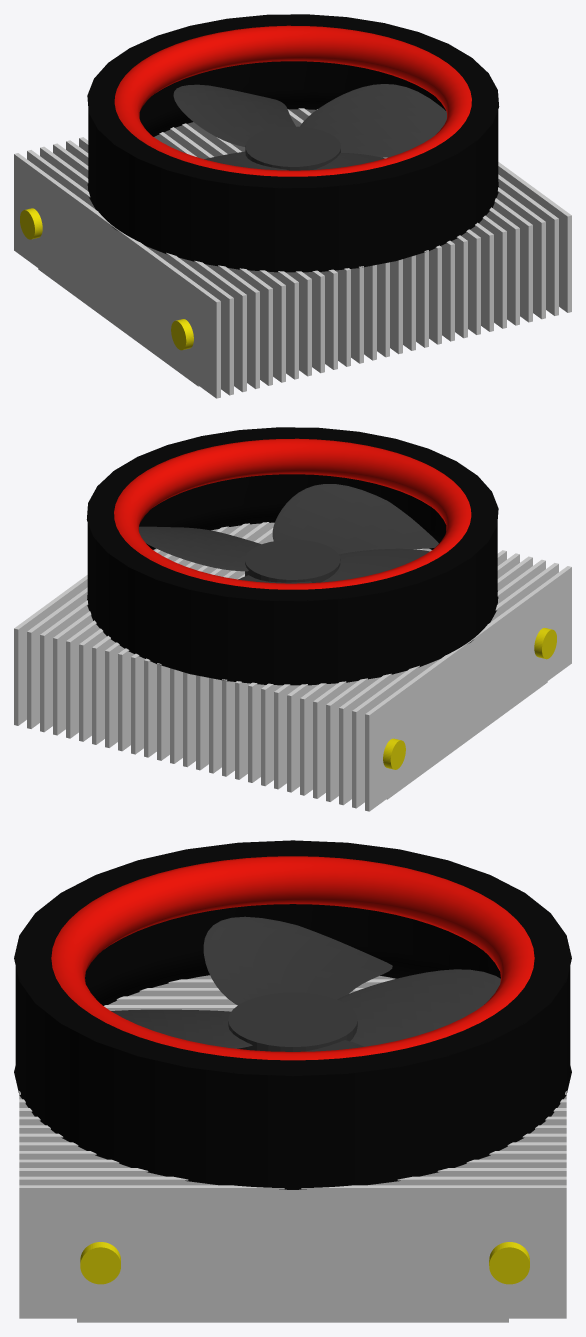
Rendered from CPUFan.fbx.
The picture shows the model from 3 angles, top to bottom: view 1: azimuth 30°, elevation 25°; view 2: azimuth 150°, elevation 25°; view 3: azimuth 270°, elevation 25°; orthographic projection. The views are drawn at different scales.
Parts seen in each view (by area): view 1: CoolerFin, FanShroud, LedLights, Plane, CopperPippes; view 2: CoolerFin, FanShroud, LedLights, Plane, CopperPippes; view 3: FanShroud, CoolerFin, LedLights, Plane, CopperPippes, CoolerBase.
Part boxes in pixels (x1=…): CoolerFin: x1=14, y1=108, x2=571, y2=398; FanShroud: x1=87, y1=14, x2=499, y2=272; LedLights: x1=114, y1=25, x2=471, y2=176; Plane: x1=173, y1=84, x2=446, y2=170; CopperPippes: x1=20, y1=208, x2=193, y2=350; CoolerFin: x1=14, y1=522, x2=571, y2=811; FanShroud: x1=86, y1=427, x2=498, y2=685; LedLights: x1=114, y1=438, x2=471, y2=589; Plane: x1=139, y1=484, x2=438, y2=583; CopperPippes: x1=383, y1=628, x2=556, y2=769; FanShroud: x1=14, y1=840, x2=571, y2=1189; CoolerFin: x1=19, y1=975, x2=566, y2=1318; LedLights: x1=51, y1=856, x2=534, y2=1060; Plane: x1=111, y1=916, x2=500, y2=1051; CopperPippes: x1=80, y1=1242, x2=529, y2=1284; CoolerBase: x1=77, y1=1318, x2=508, y2=1322.
Size of the model in its own units: 597 by 285 by 574.
